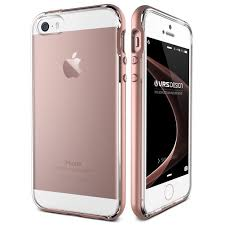iphone: (28, 1, 124, 222), (128, 2, 195, 219)
iphone5: (28, 1, 124, 222)
